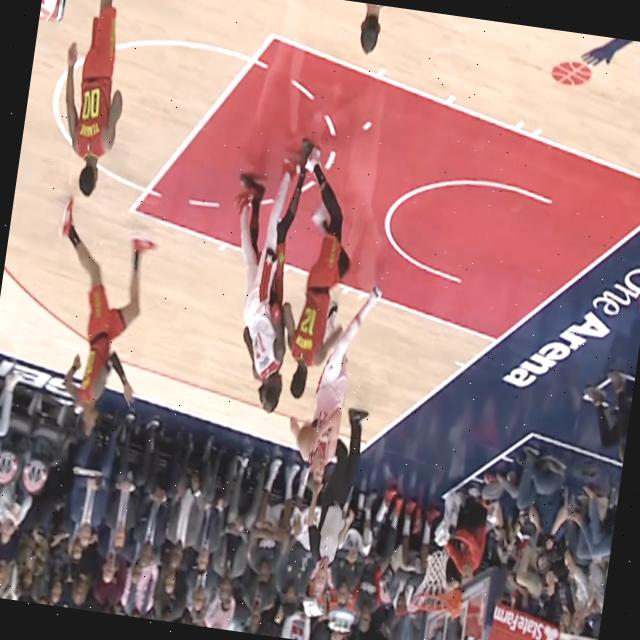foul: (195, 133, 324, 433)
